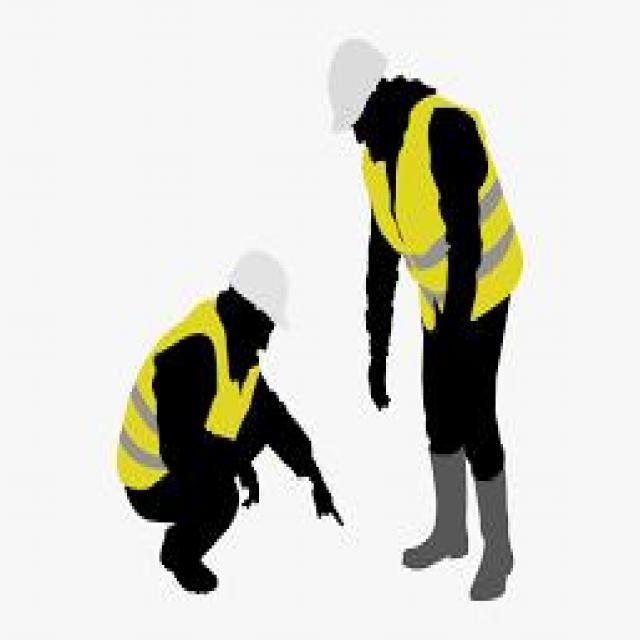Reflective-Jacket: (359, 85, 533, 336), (102, 287, 269, 503)
Safety-Helmet: (219, 235, 304, 336), (319, 26, 393, 134)
